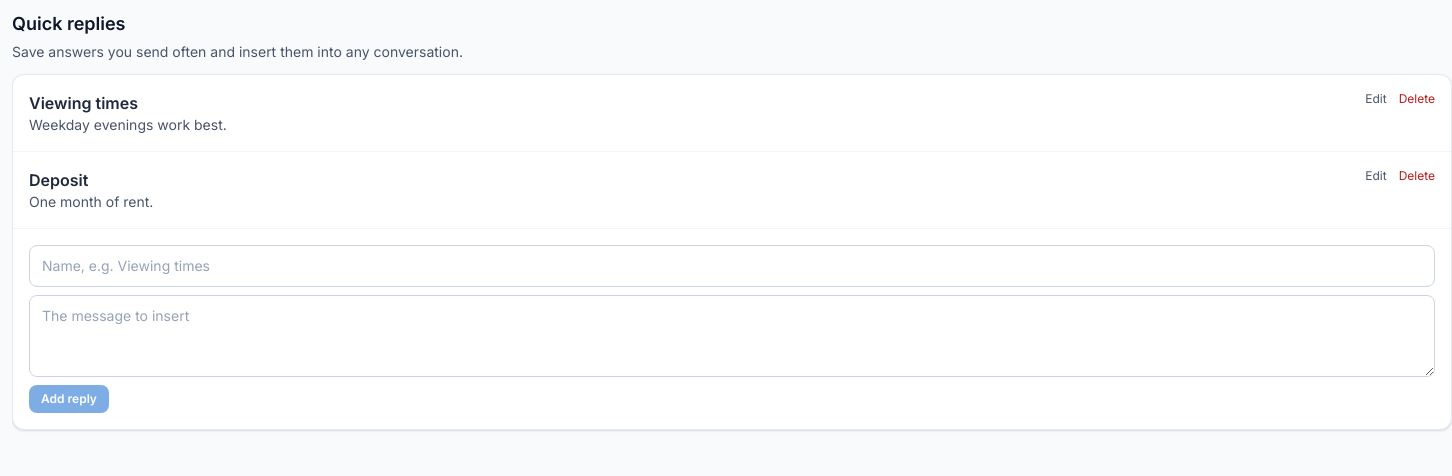
quick replies › shows validation errors
The image size is (1452, 476).
Check: the text "Deposit" is shown, box top-left (29, 170), bottom-right (88, 190)
Type "Bad" into the field named "Reply name" at (732, 266), box top-left (29, 245), bottom-right (1435, 287)
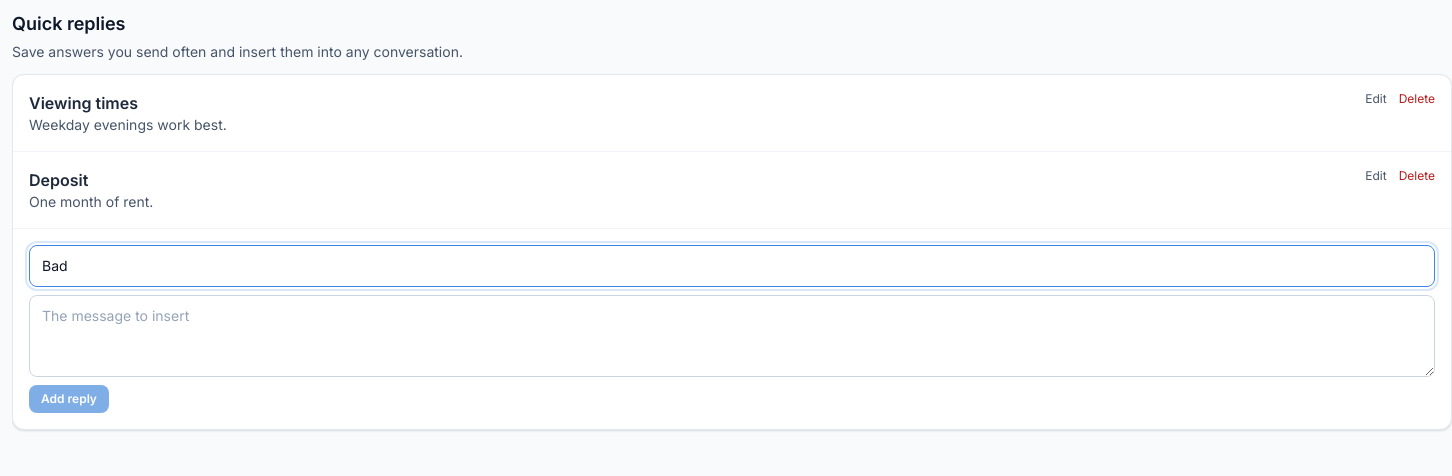
Type "Text" into the text box named "Reply text" at (732, 336), box top-left (29, 295), bottom-right (1435, 377)
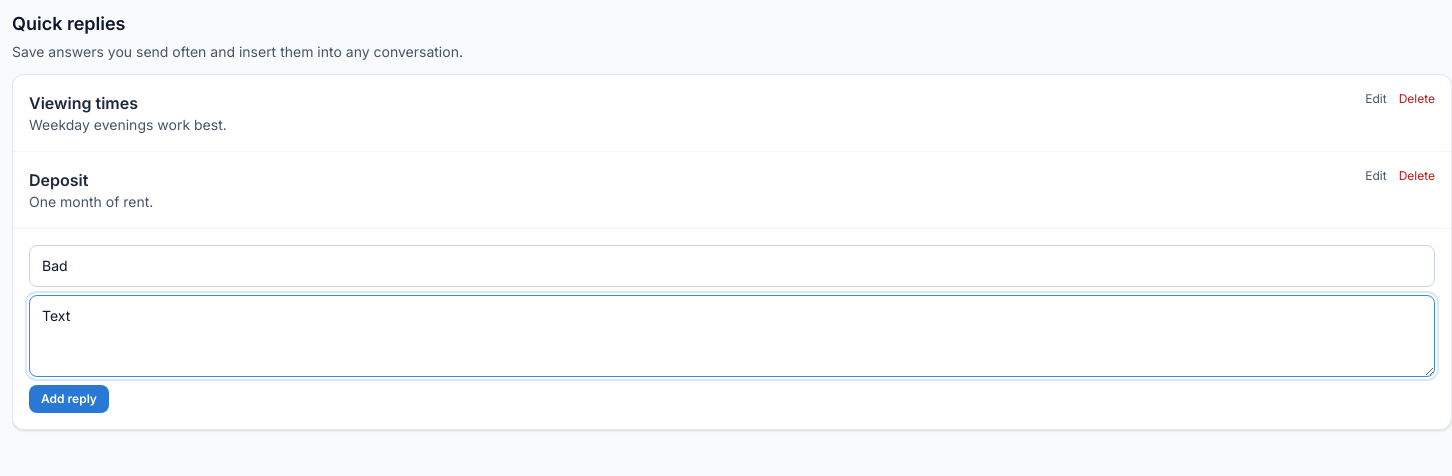
Click the button "Add reply" at (69, 399), box top-left (29, 385), bottom-right (109, 413)
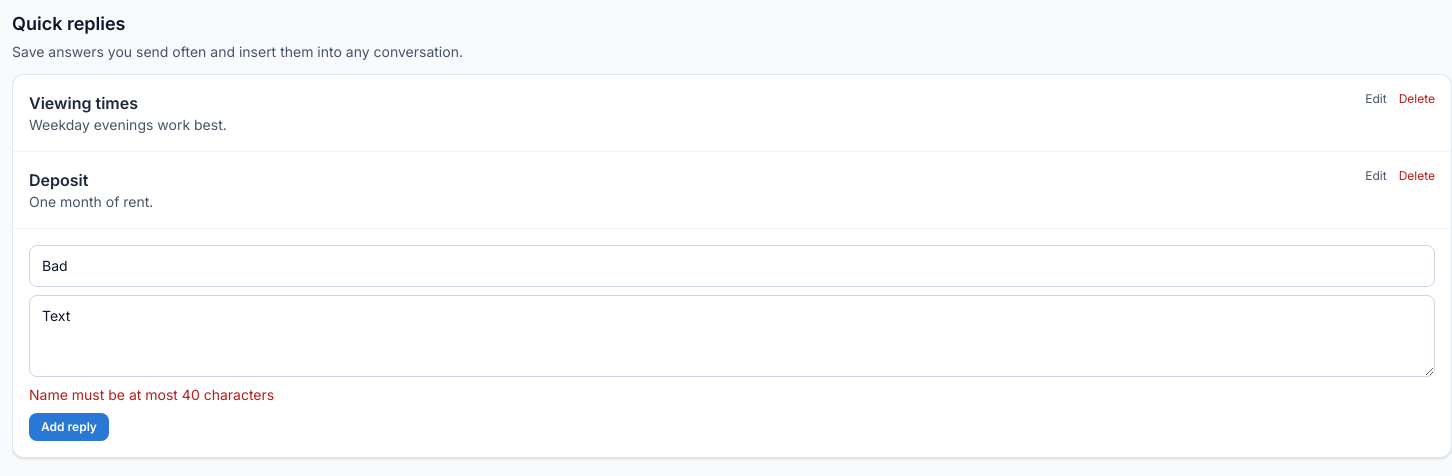
Check: the text "Name must be at most 40 characters" is shown, box top-left (29, 386), bottom-right (274, 403)
